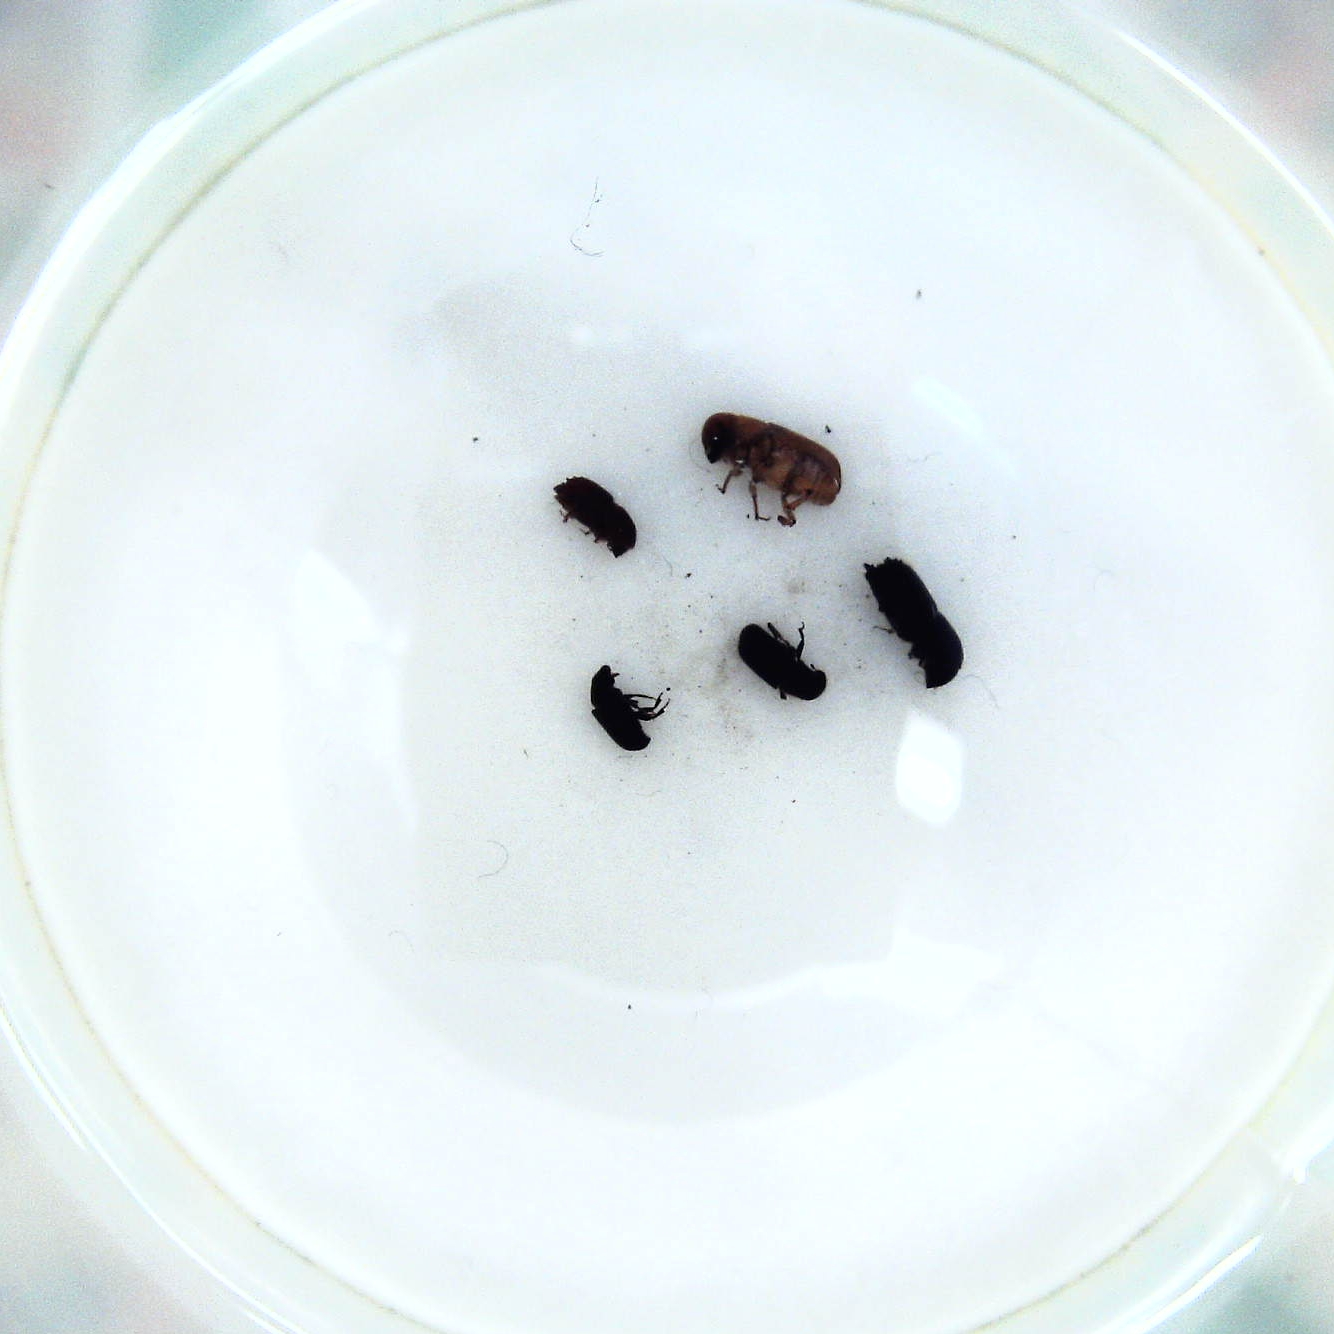Boerner: (859, 553, 971, 695)
Leconte: (695, 409, 849, 531)
armandi: (727, 612, 829, 707)
coleoptera: (586, 661, 678, 756)
linnaeus: (549, 473, 636, 563)
